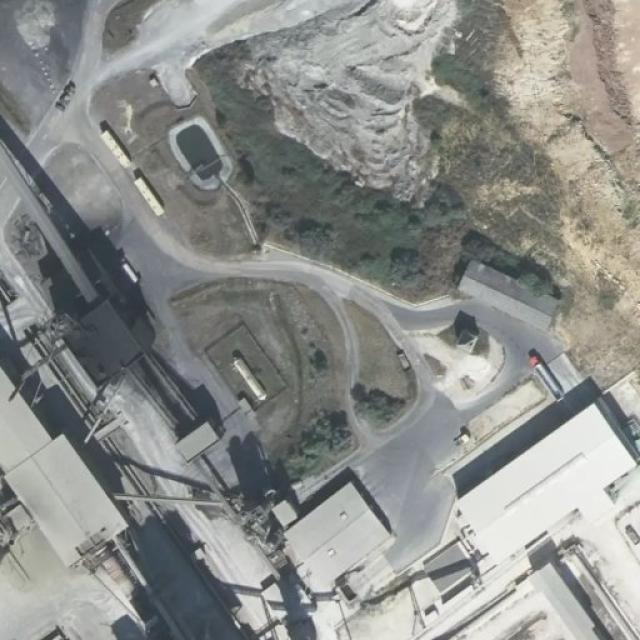usine: (444, 366, 636, 565), (0, 367, 122, 582), (264, 476, 394, 590), (120, 352, 214, 462), (445, 256, 553, 334)
